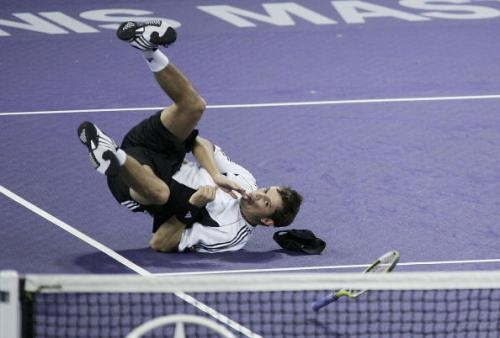falling: (72, 9, 321, 258)
